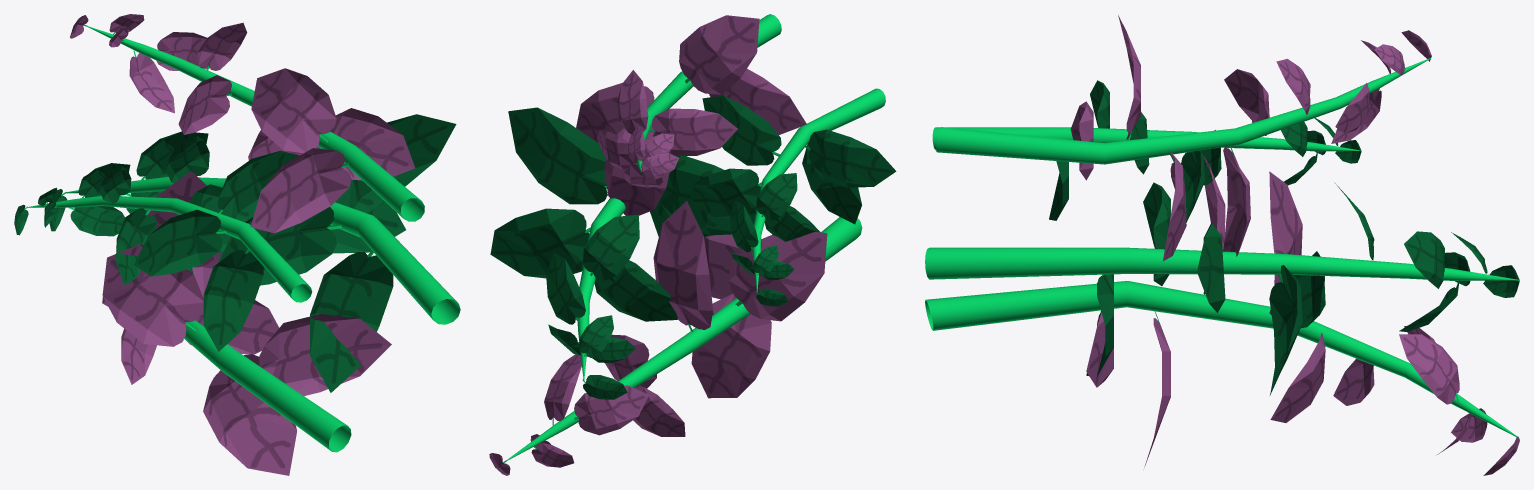
Rendered from Grass02.fbx.
The picture shows the model from 3 angles, left to right: view 1: azimuth 30°, elevation 25°; view 2: azimuth 150°, elevation 25°; view 3: azimuth 270°, elevation 25°; orthographic projection. The views are drawn at different scales.
Parts seen in each view (by area): view 1: 平面.002; view 2: 平面.002; view 3: 平面.002.
Part boxes in pixels (bbox=[...]): 平面.002: bbox=[14, 14, 460, 475]; 平面.002: bbox=[489, 14, 896, 475]; 平面.002: bbox=[925, 15, 1519, 475].
Size of the model in its own units: 5.93 by 6.33 by 7.84.
